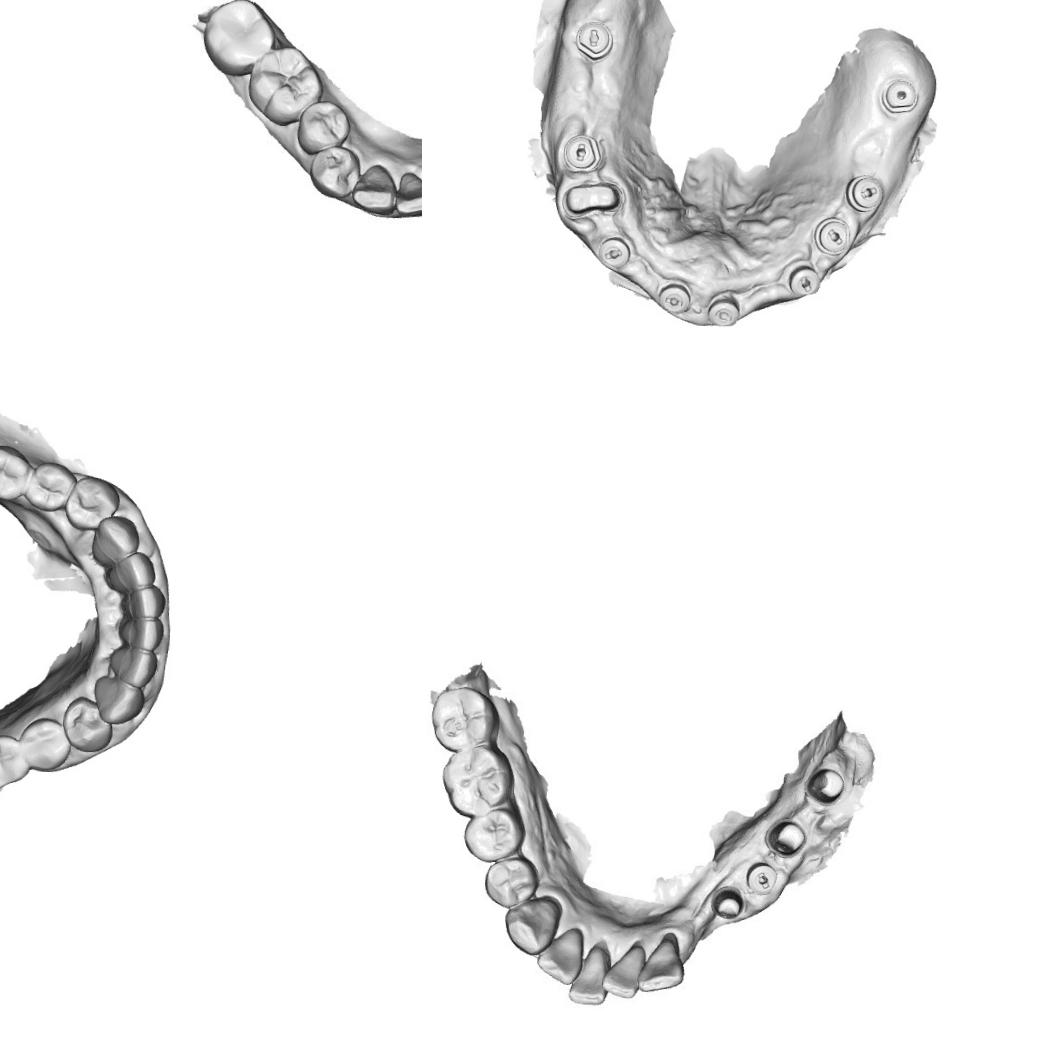abutment: (764, 815, 808, 859), (802, 763, 846, 805), (706, 882, 746, 922)
canine: (500, 896, 561, 957), (87, 512, 142, 569), (90, 674, 146, 727), (350, 160, 397, 213)
crown: (560, 178, 623, 222)
implant: (878, 76, 922, 116)
implant_minus: (572, 15, 616, 62), (559, 130, 605, 173), (811, 214, 853, 256), (842, 172, 886, 212), (702, 294, 744, 331), (742, 858, 780, 897), (594, 231, 631, 269), (782, 263, 822, 298), (654, 282, 695, 316)
incisor: (533, 923, 586, 987), (634, 933, 686, 994), (564, 942, 611, 1008), (101, 548, 158, 597), (600, 941, 646, 1000), (103, 646, 158, 688), (114, 582, 166, 622), (112, 614, 165, 653), (394, 169, 422, 217)
molar: (244, 44, 322, 128), (437, 741, 517, 820), (199, 0, 275, 77), (428, 683, 500, 754), (0, 731, 29, 792)
premolar: (460, 806, 527, 865), (59, 694, 116, 758), (62, 472, 122, 532), (293, 96, 351, 158), (480, 853, 542, 910), (307, 140, 362, 199), (18, 715, 72, 774), (24, 458, 73, 514), (0, 441, 30, 500)
